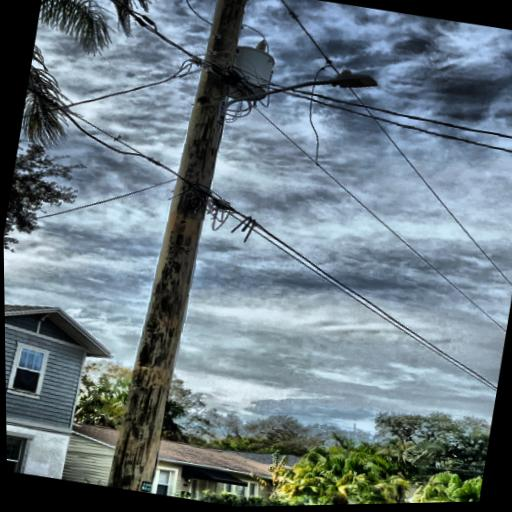pole: (57, 0, 282, 502)
street light: (210, 48, 382, 151)
transformer: (216, 41, 277, 106)
